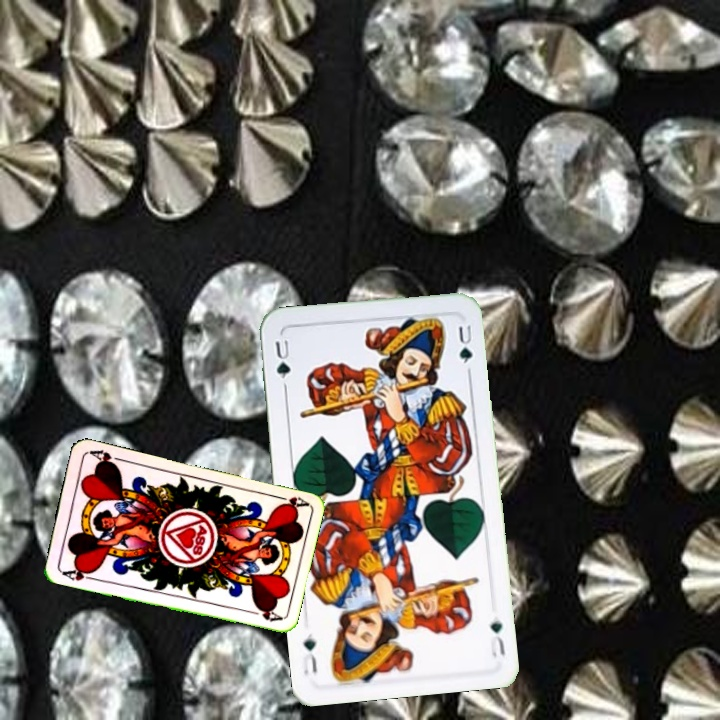GU: (271, 333, 294, 391), (485, 616, 508, 660)
HA: (57, 563, 99, 583), (269, 491, 309, 512)
